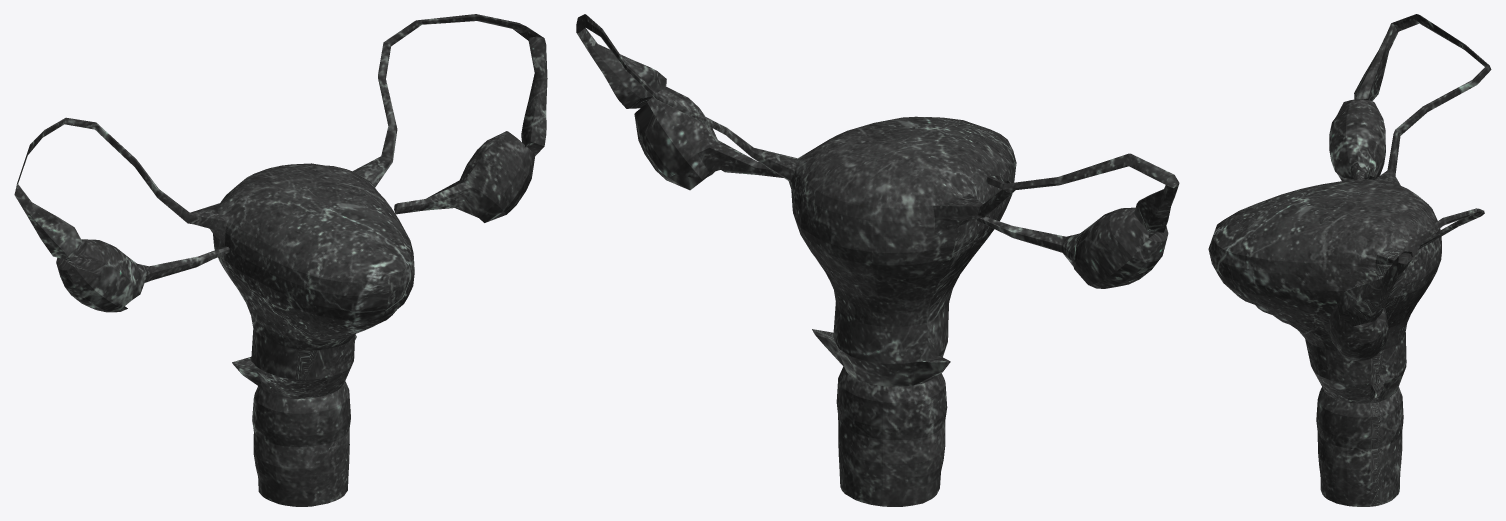
Rendered from urethra.fbx.
3 views of the same model, side by side, from view 1: azimuth 30°, elevation 25°; view 2: azimuth 150°, elevation 25°; view 3: azimuth 270°, elevation 25° (orthographic). The views are drawn at different scales.
Visible parts, largest first — view 1: ureythra; view 2: ureythra; view 3: ureythra.
Boxes of the visible parts, x1,y1,x2,y2 form: ureythra: [14, 14, 547, 506]; ureythra: [576, 14, 1179, 506]; ureythra: [1208, 14, 1491, 506].
Bounding box in the file's own units: 239 × 166 × 115.
1 material, 1 textured.
